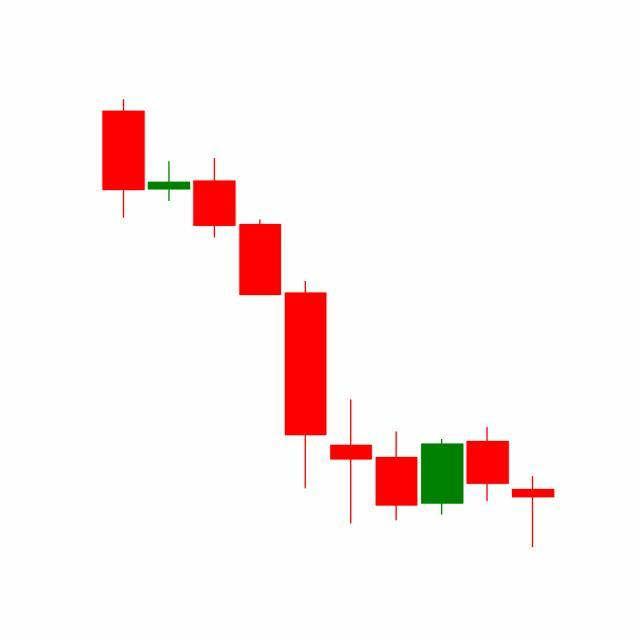Hikkake Pattern: (283, 279, 512, 527)
